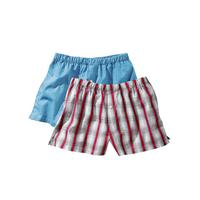mutande: (48, 76, 169, 155), (29, 52, 136, 125)
